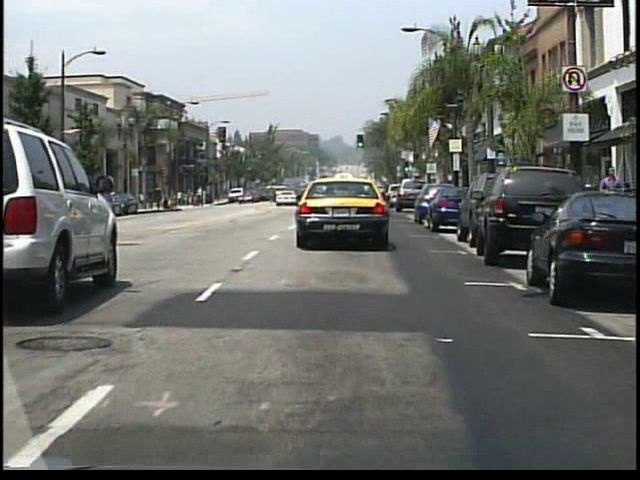person: (598, 163, 623, 234), (204, 190, 212, 207)
